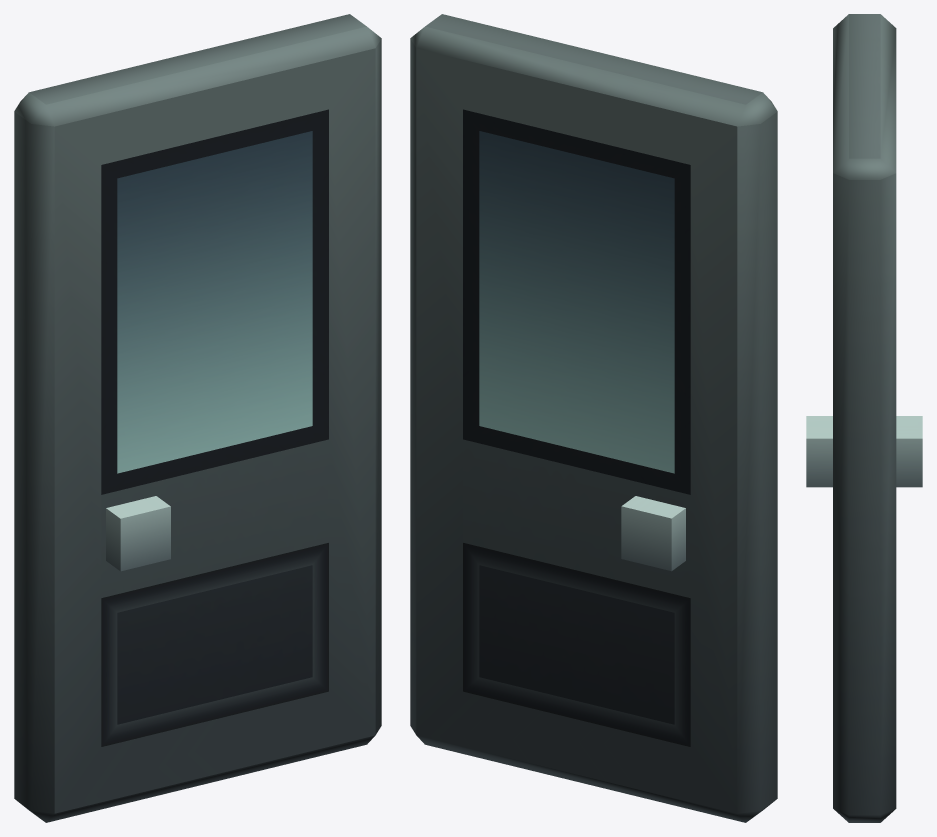
File: door_black_police_station.fbx
3 renders of one model, left to right at view 1: azimuth 30°, elevation 25°; view 2: azimuth 150°, elevation 25°; view 3: azimuth 270°, elevation 25°, orthographic. The views are drawn at different scales.
Visible parts, largest first — view 1: door_black_police_station; view 2: door_black_police_station; view 3: door_black_police_station.
Boxes of the visible parts, <box> form: door_black_police_station: <box>14,14,381,822</box>; door_black_police_station: <box>410,14,777,822</box>; door_black_police_station: <box>806,14,922,822</box>.
Bounding box in the file's own units: 104 × 204 × 32.5.
